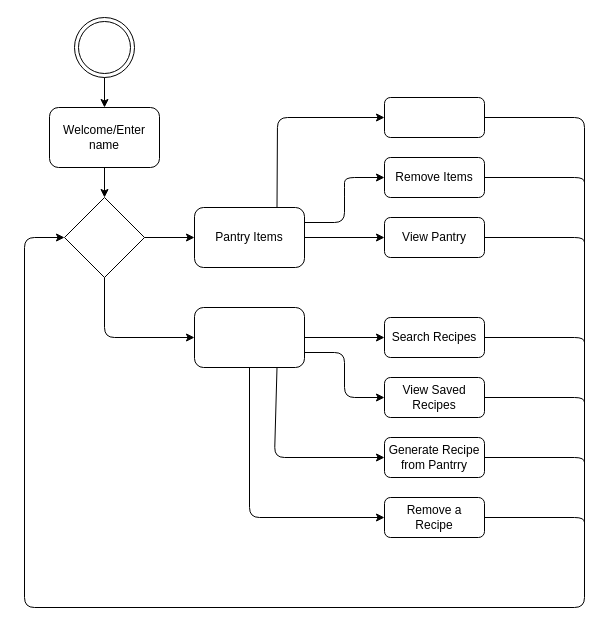
Some shapes in this 610 by 633 pixel diagram are drawn without their labels. The box of each missing label's shape, as (x1, y1, x2, y2) in pixels:
Add Items: (384, 96, 484, 138)
Open App: (74, 16, 134, 78)
Recipe List: (194, 306, 304, 368)
What do you want to do?: (64, 196, 144, 278)
